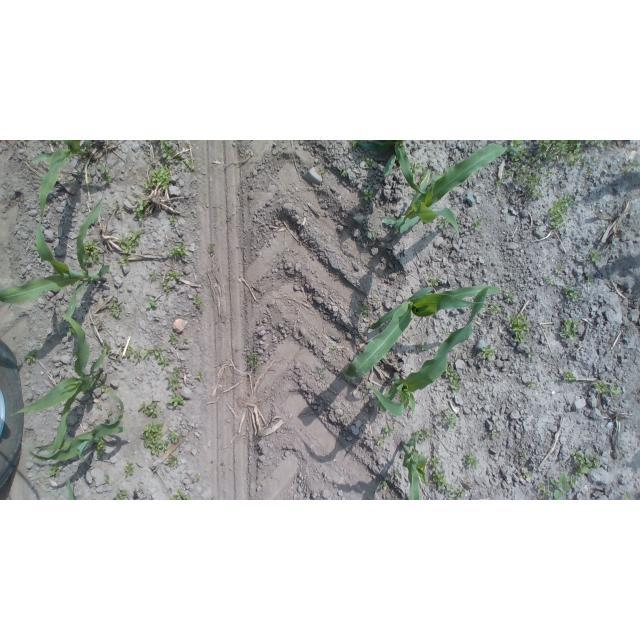Maize: (368, 288, 489, 419), (346, 285, 501, 382), (10, 311, 109, 461), (381, 141, 523, 239), (0, 191, 104, 321), (20, 392, 131, 464), (33, 140, 88, 221), (357, 140, 427, 198), (400, 432, 428, 500), (66, 477, 77, 500)
Weeds: (503, 141, 585, 202), (550, 452, 601, 500), (126, 344, 171, 371), (139, 423, 169, 457), (548, 194, 576, 229), (507, 312, 530, 349), (143, 163, 173, 190), (151, 141, 181, 164), (429, 457, 447, 492), (120, 230, 144, 255), (591, 380, 621, 397), (560, 317, 581, 341), (352, 300, 372, 324), (445, 364, 462, 392), (162, 270, 181, 293), (83, 240, 100, 265), (131, 197, 148, 222), (168, 242, 190, 260), (440, 407, 458, 429), (138, 400, 160, 418), (168, 331, 192, 347), (96, 373, 113, 395), (562, 283, 582, 301), (168, 488, 193, 501), (463, 451, 480, 470), (97, 163, 111, 186), (168, 365, 181, 388), (416, 427, 433, 444), (23, 348, 40, 365), (168, 392, 185, 409), (621, 158, 639, 174), (107, 300, 122, 319), (61, 325, 75, 344), (480, 344, 496, 360), (366, 223, 381, 240), (493, 179, 504, 202), (448, 488, 467, 501), (537, 483, 551, 500), (585, 140, 614, 148), (248, 352, 261, 369), (95, 437, 107, 455), (363, 189, 377, 204), (363, 154, 376, 170), (124, 460, 136, 477), (100, 340, 112, 357), (193, 294, 206, 309), (184, 157, 196, 173), (408, 161, 424, 173), (588, 250, 601, 264), (316, 366, 329, 380), (487, 302, 502, 314), (168, 430, 181, 443), (48, 463, 60, 477), (167, 455, 179, 469), (382, 423, 393, 437), (505, 289, 515, 304), (429, 274, 441, 286), (564, 371, 577, 382), (116, 489, 129, 500), (144, 298, 156, 309), (437, 217, 448, 228), (416, 342, 428, 352), (545, 275, 557, 285), (472, 219, 483, 229), (150, 269, 160, 280), (379, 480, 390, 490), (348, 141, 361, 148), (376, 435, 385, 445), (554, 264, 563, 274), (120, 256, 128, 267), (209, 244, 216, 256), (605, 348, 614, 357), (169, 214, 177, 224), (406, 332, 416, 340), (621, 492, 631, 500), (103, 473, 111, 483), (47, 140, 62, 145), (528, 380, 537, 388), (520, 452, 528, 461), (196, 372, 204, 381), (523, 472, 533, 479), (112, 203, 121, 210), (587, 168, 594, 177), (106, 408, 113, 417), (587, 276, 594, 284), (341, 170, 348, 178), (491, 428, 498, 436), (601, 224, 607, 233), (592, 156, 599, 163), (442, 331, 450, 337), (19, 140, 27, 146), (464, 358, 473, 363), (193, 477, 199, 484), (319, 167, 326, 173), (96, 404, 102, 411), (527, 351, 533, 357), (341, 420, 350, 424), (396, 471, 401, 477), (332, 345, 336, 348), (112, 402, 115, 404)
